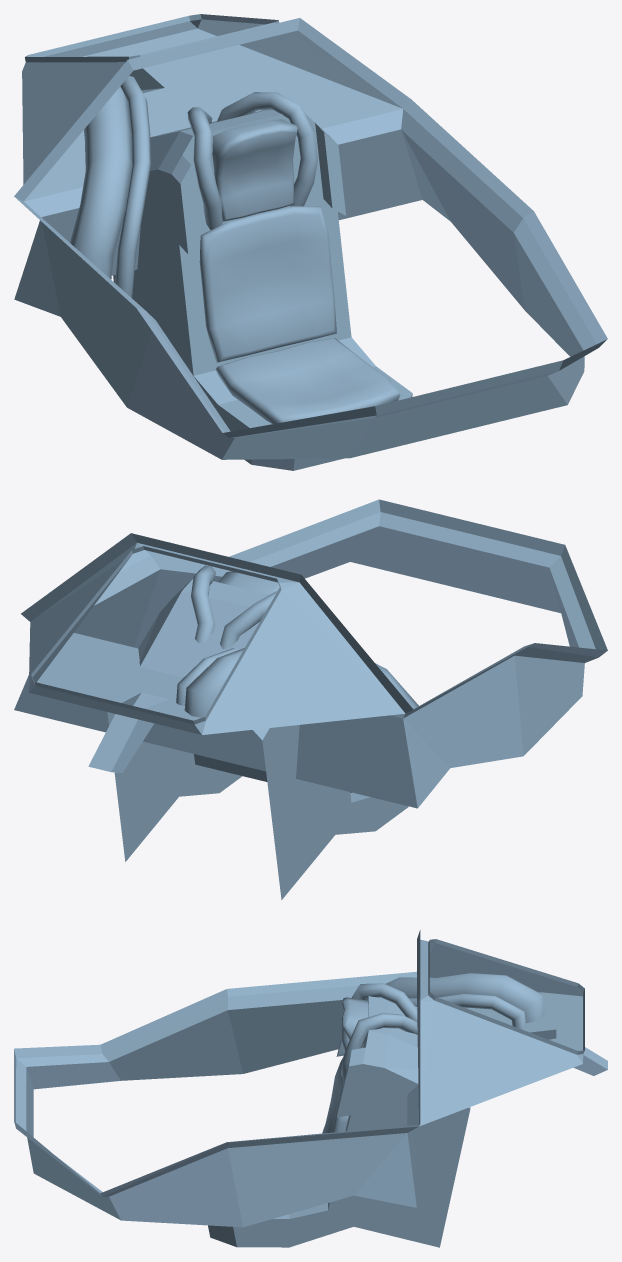
The model's file is pilot seat.FBX.
The picture shows the model from 3 angles, top to bottom: view 1: azimuth 30°, elevation 25°; view 2: azimuth 150°, elevation 25°; view 3: azimuth 270°, elevation 25°; orthographic projection. The views are drawn at different scales.
Parts seen in each view (by area): view 1: Box05; view 2: Box05; view 3: Box05.
Part boxes in pixels (box(x1,y1,x2,y2)): Box05: box(14, 14, 607, 470); Box05: box(14, 499, 607, 899); Box05: box(14, 930, 607, 1247).
Size of the model in its own units: 0.0582 by 0.0929 by 0.0439.
